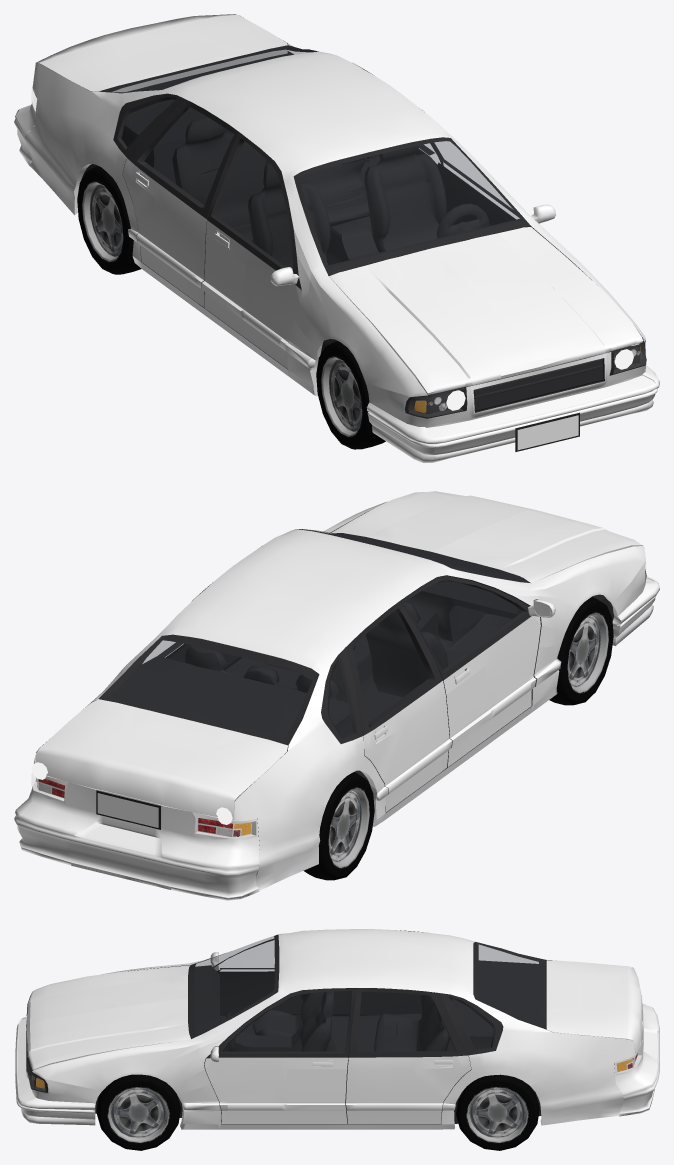
The model's file is sedan.glb.
The picture shows the model from 3 angles, top to bottom: view 1: azimuth 30°, elevation 25°; view 2: azimuth 150°, elevation 25°; view 3: azimuth 270°, elevation 25°; orthographic projection. The views are drawn at different scales.
Parts seen in each view (by area): view 1: body, wheel_fr, wheel_rr, decal:plateF; view 2: body, wheel_rr, wheel_fr, decal:plateR; view 3: body, wheel_fl, wheel_rl.
Boxes of the visible parts, left/top/right/bottom form: body: left=14, top=14, right=659, bottom=462; wheel_fr: left=316, top=341, right=385, bottom=449; wheel_rr: left=77, top=166, right=141, bottom=274; decal:plateF: left=517, top=415, right=578, bottom=450; body: left=14, top=491, right=659, bottom=900; wheel_rr: left=303, top=772, right=374, bottom=880; wheel_fr: left=549, top=596, right=613, bottom=705; decal:plateR: left=97, top=793, right=158, bottom=827; body: left=15, top=929, right=659, bottom=1129; wheel_fl: left=96, top=1074, right=180, bottom=1150; wheel_rl: left=456, top=1074, right=539, bottom=1150.
Size of the model in its own units: 2.03 by 1.41 by 5.37.
9 materials, 2 textured.
